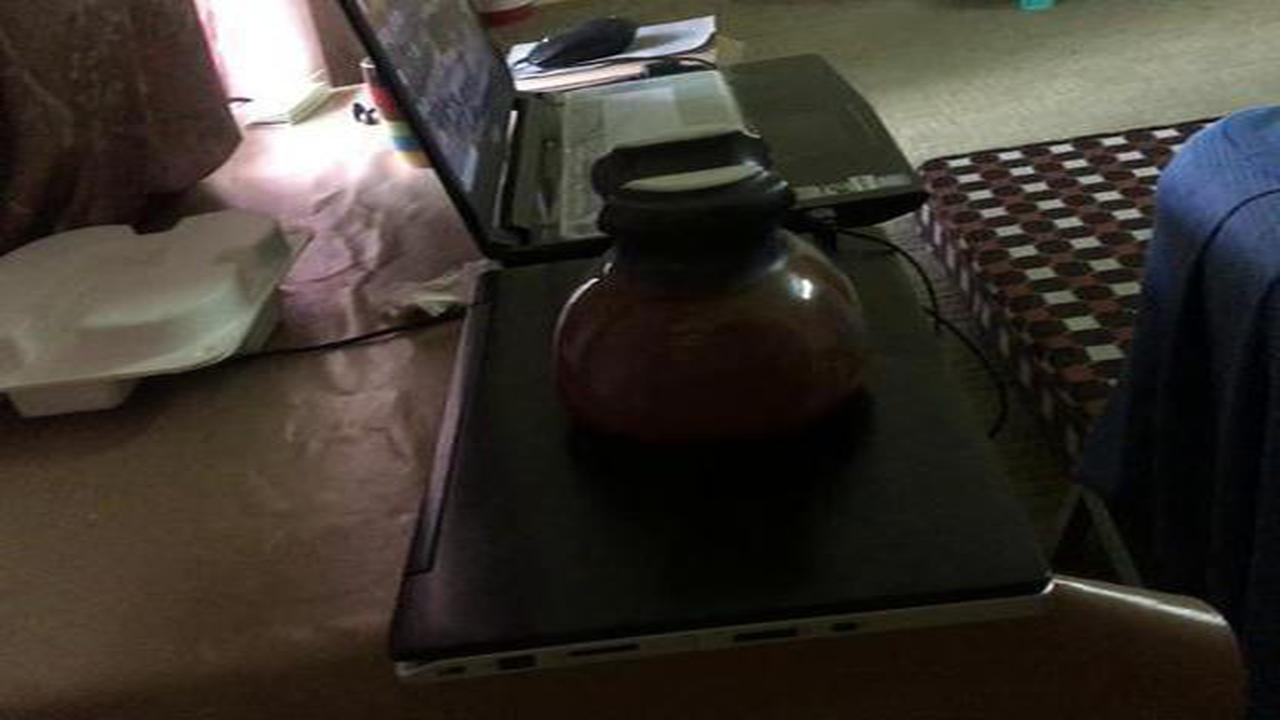insulator_pin: (536, 130, 890, 466)
